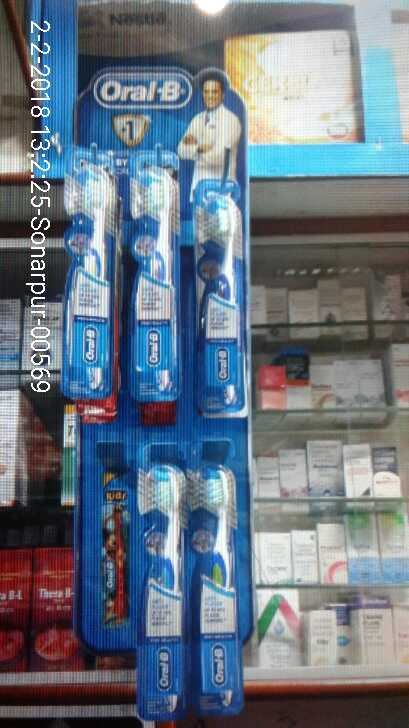oralb: (189, 463, 243, 711), (136, 462, 186, 715), (127, 146, 176, 401), (65, 148, 113, 401), (194, 181, 245, 414)
